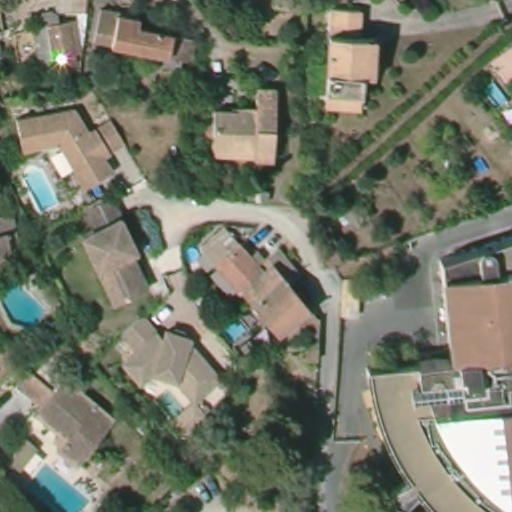pool: (27, 459, 93, 512), (1, 281, 51, 333), (19, 164, 61, 214), (219, 311, 251, 347), (479, 78, 512, 110), (181, 243, 201, 265)
